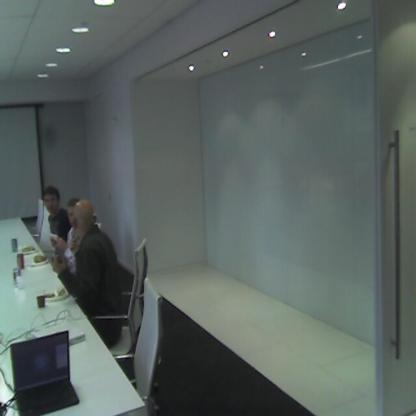board: (10, 330, 79, 415), (12, 268, 22, 288), (15, 254, 25, 269), (11, 237, 18, 255)
